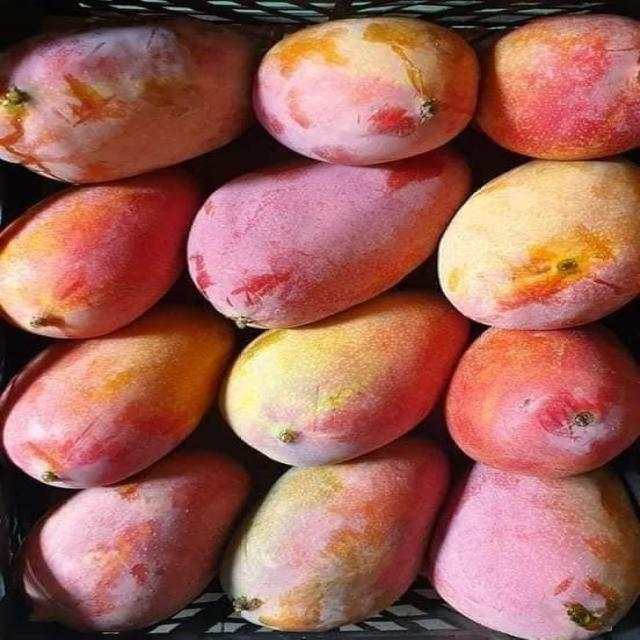mango: (188, 149, 469, 328), (221, 438, 448, 632), (221, 292, 468, 465), (0, 18, 256, 183), (0, 306, 233, 487), (20, 451, 249, 631), (427, 464, 639, 639), (439, 159, 639, 329), (0, 169, 200, 338), (254, 18, 478, 165), (447, 326, 639, 477), (477, 15, 639, 159)
